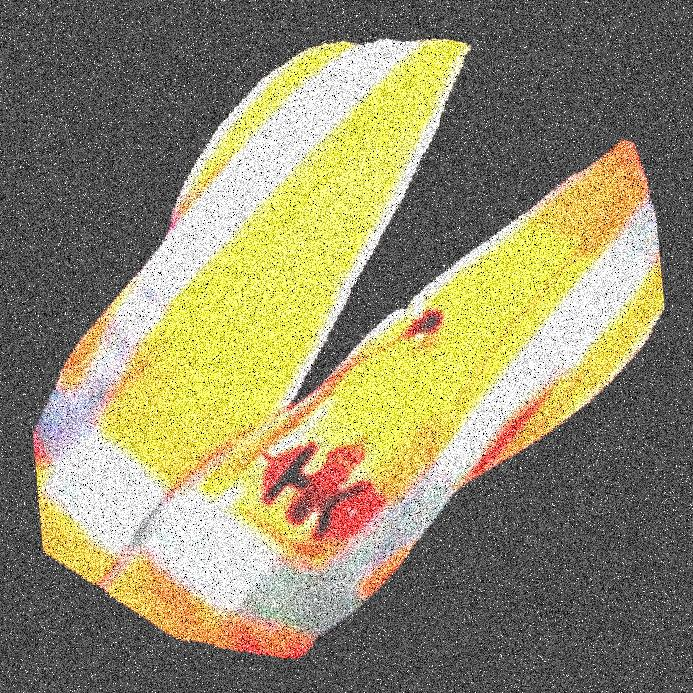Colete: (162, 0, 403, 692)
